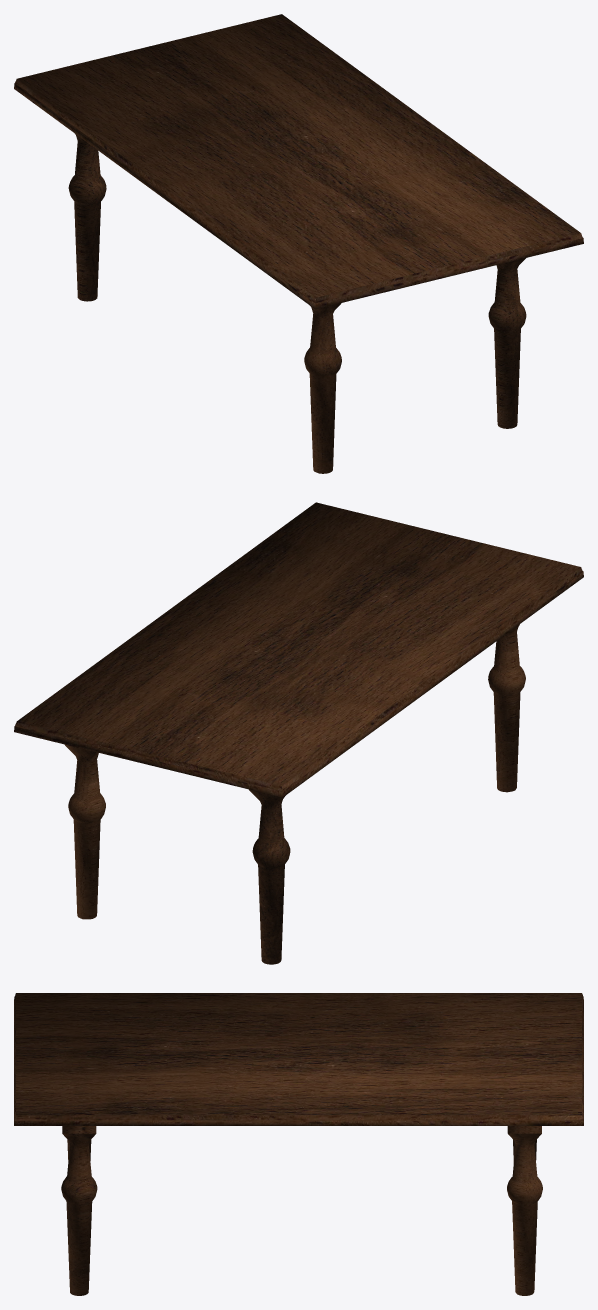
Rendered from dark_wood_dining_table.glb.
3 renders of one model, top to bottom at view 1: azimuth 30°, elevation 25°; view 2: azimuth 150°, elevation 25°; view 3: azimuth 270°, elevation 25°, orthographic. The views are drawn at different scales.
Visible parts, largest first — view 1: Cube.026; view 2: Cube.026; view 3: Cube.026.
Part boxes in pixels (left/top/right/bottom): Cube.026: left=14, top=14, right=583, bottom=473; Cube.026: left=14, top=502, right=583, bottom=964; Cube.026: left=14, top=993, right=583, bottom=1295.
Bounding box in the file's own units: 1.61 × 1.18 × 3.13.
Materials: 1 (1 with a texture image).
